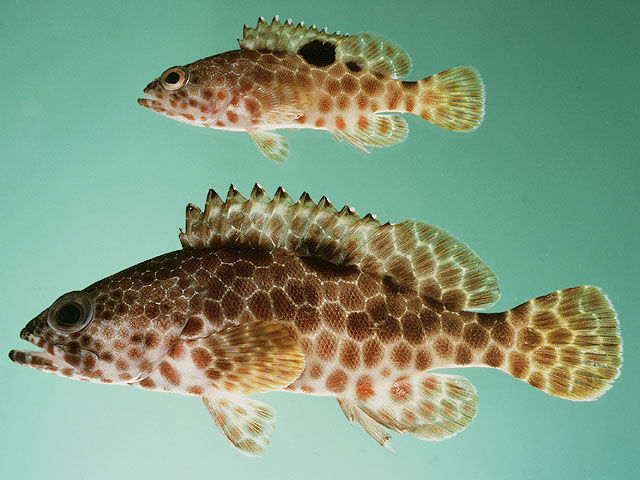fish: (8, 181, 625, 457), (136, 13, 487, 165)
